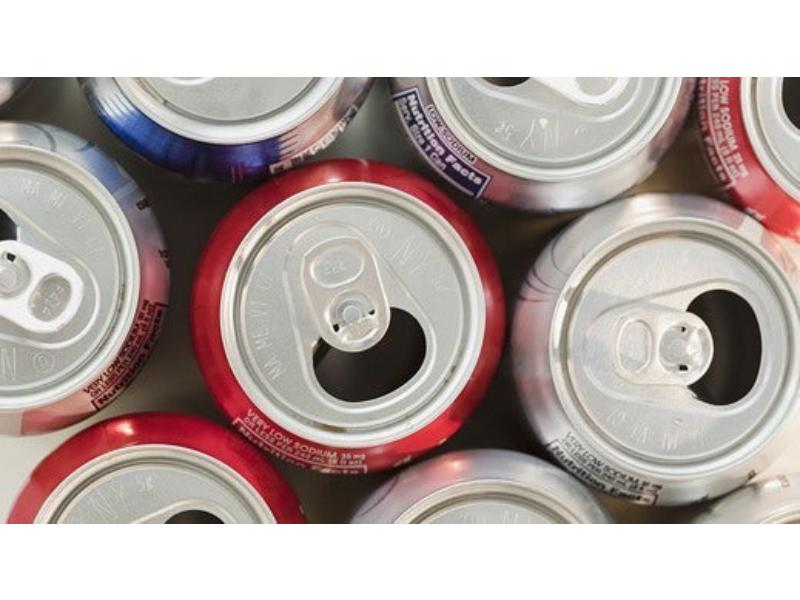can: (188, 157, 500, 467), (511, 192, 800, 505), (1, 115, 171, 429), (387, 76, 715, 202), (75, 75, 387, 178), (4, 418, 309, 522), (345, 452, 629, 523), (699, 75, 799, 233)
